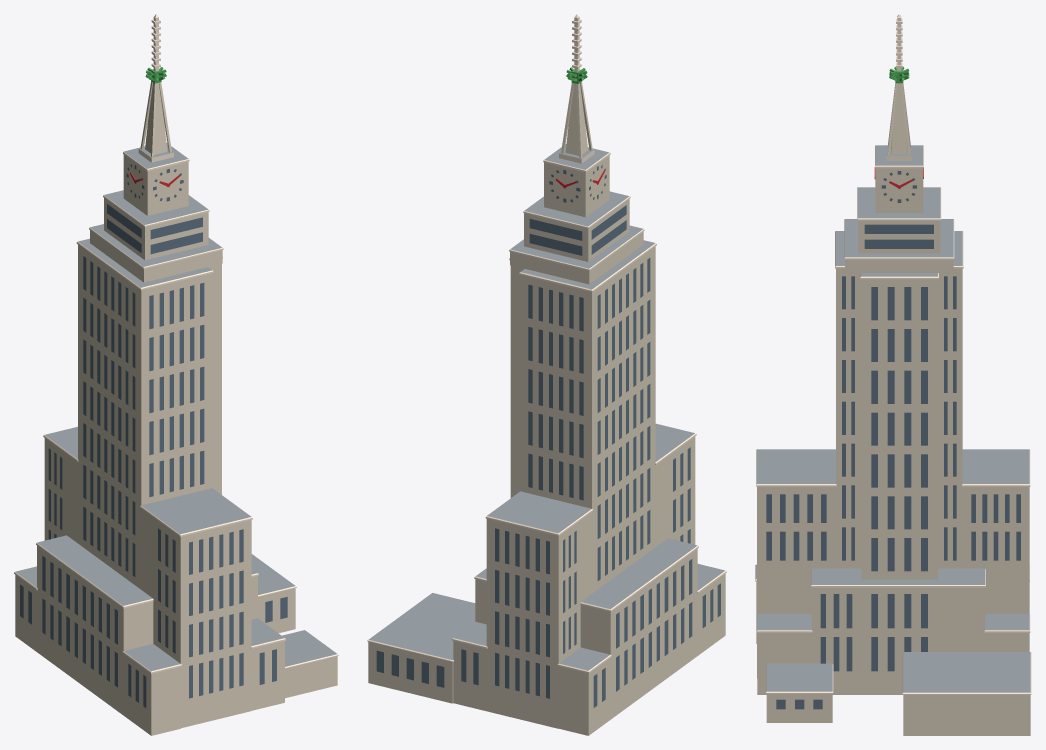
The model's file is dal-mercantile-national-bank.glb.
3 views of the same model, side by side, from view 1: azimuth 30°, elevation 25°; view 2: azimuth 150°, elevation 25°; view 3: azimuth 270°, elevation 25° (orthographic).
Parts seen in each view (by area): view 1: Mercantile National Bank Building; view 2: Mercantile National Bank Building; view 3: Mercantile National Bank Building.
Boxes of the visible parts, left/top/right/bottom form: Mercantile National Bank Building: left=14, top=14, right=338, bottom=735; Mercantile National Bank Building: left=367, top=14, right=726, bottom=735; Mercantile National Bank Building: left=755, top=14, right=1031, bottom=735.
Bounding box in the file's own units: 58.5 × 166 × 63.7.
